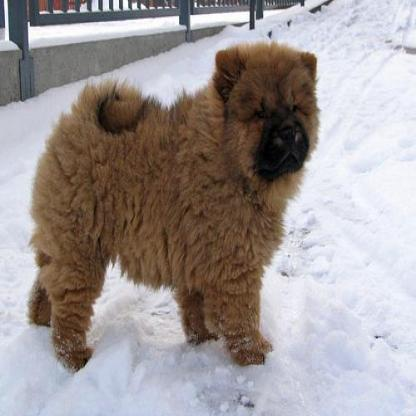chow: (26, 41, 320, 367)
